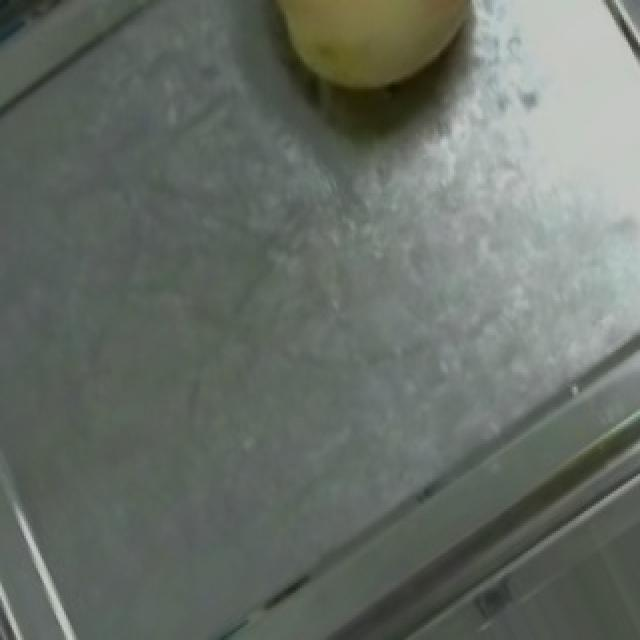Fruit: (232, 0, 502, 127)
